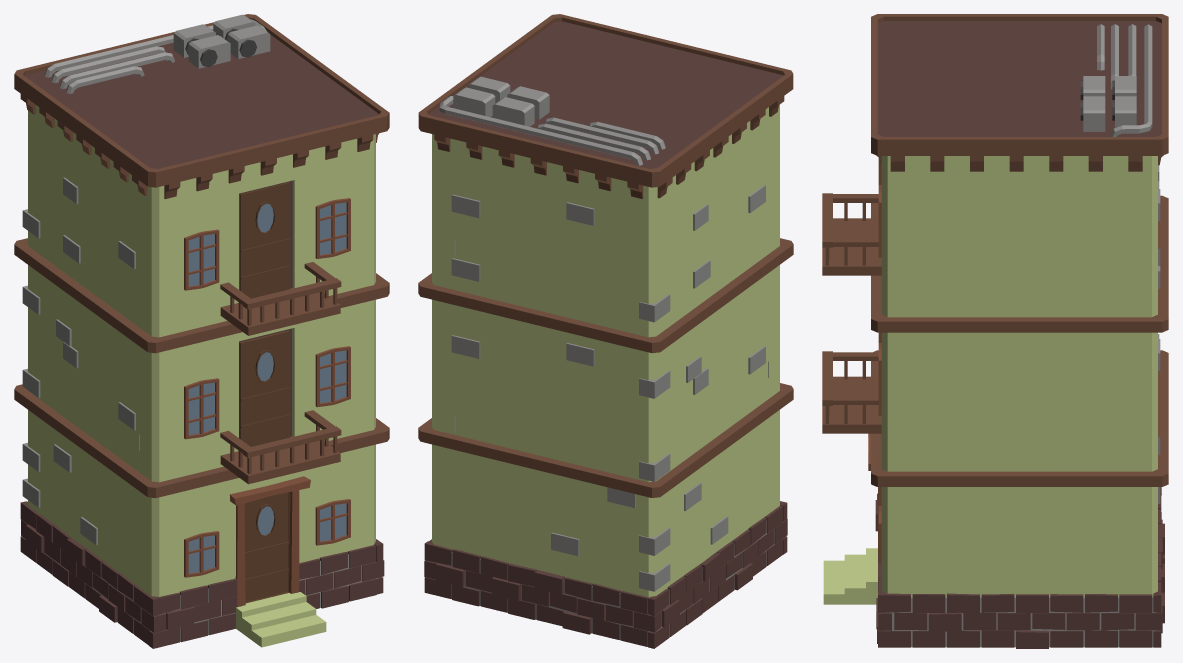
Rendered from 3.bina.fbx.
3 views of the same model, side by side, from view 1: azimuth 30°, elevation 25°; view 2: azimuth 150°, elevation 25°; view 3: azimuth 270°, elevation 25° (orthographic). The views are drawn at different scales.
Visible parts, largest first — view 1: 3Story_Balcony_Mat; view 2: 3Story_Balcony_Mat; view 3: 3Story_Balcony_Mat.
Part boxes in pixels (x1,y1,x2,y2): 3Story_Balcony_Mat: (14, 14, 389, 648); 3Story_Balcony_Mat: (418, 14, 793, 648); 3Story_Balcony_Mat: (822, 14, 1168, 648).
Size of the model in its own units: 216 by 421 by 251.
